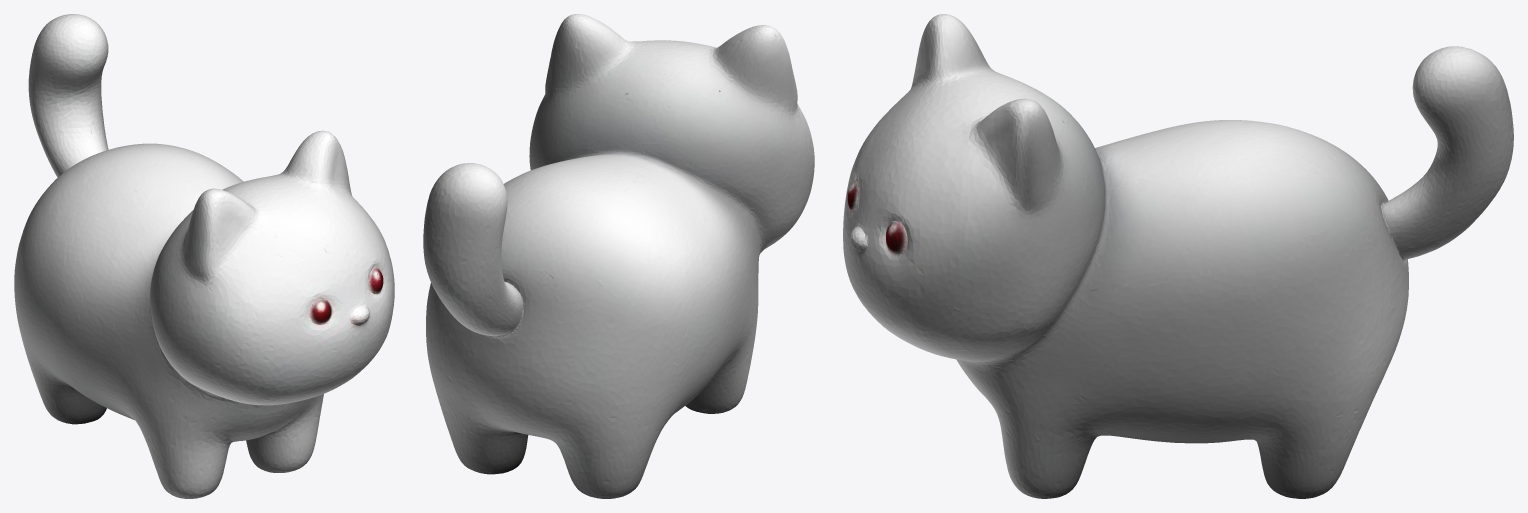
The model's file is AnimePistol_Textured_00088_.glb.
3 renders of one model, left to right at view 1: azimuth 30°, elevation 25°; view 2: azimuth 150°, elevation 25°; view 3: azimuth 270°, elevation 25°, orthographic. The views are drawn at different scales.
Parts seen in each view (by area): view 1: world; view 2: world; view 3: world.
Part boxes in pixels (box(x1,y1,x2,y2)): world: box(14, 14, 394, 498); world: box(423, 14, 814, 498); world: box(843, 14, 1513, 498).
Size of the model in its own units: 0.523 by 0.684 by 1.
Materials: 1 (1 with a texture image).
